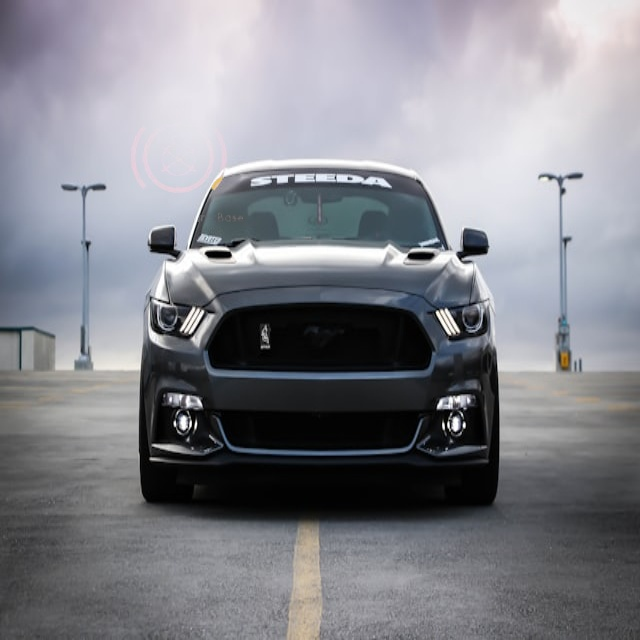symbol: (453, 38, 640, 225), (108, 88, 249, 229)
